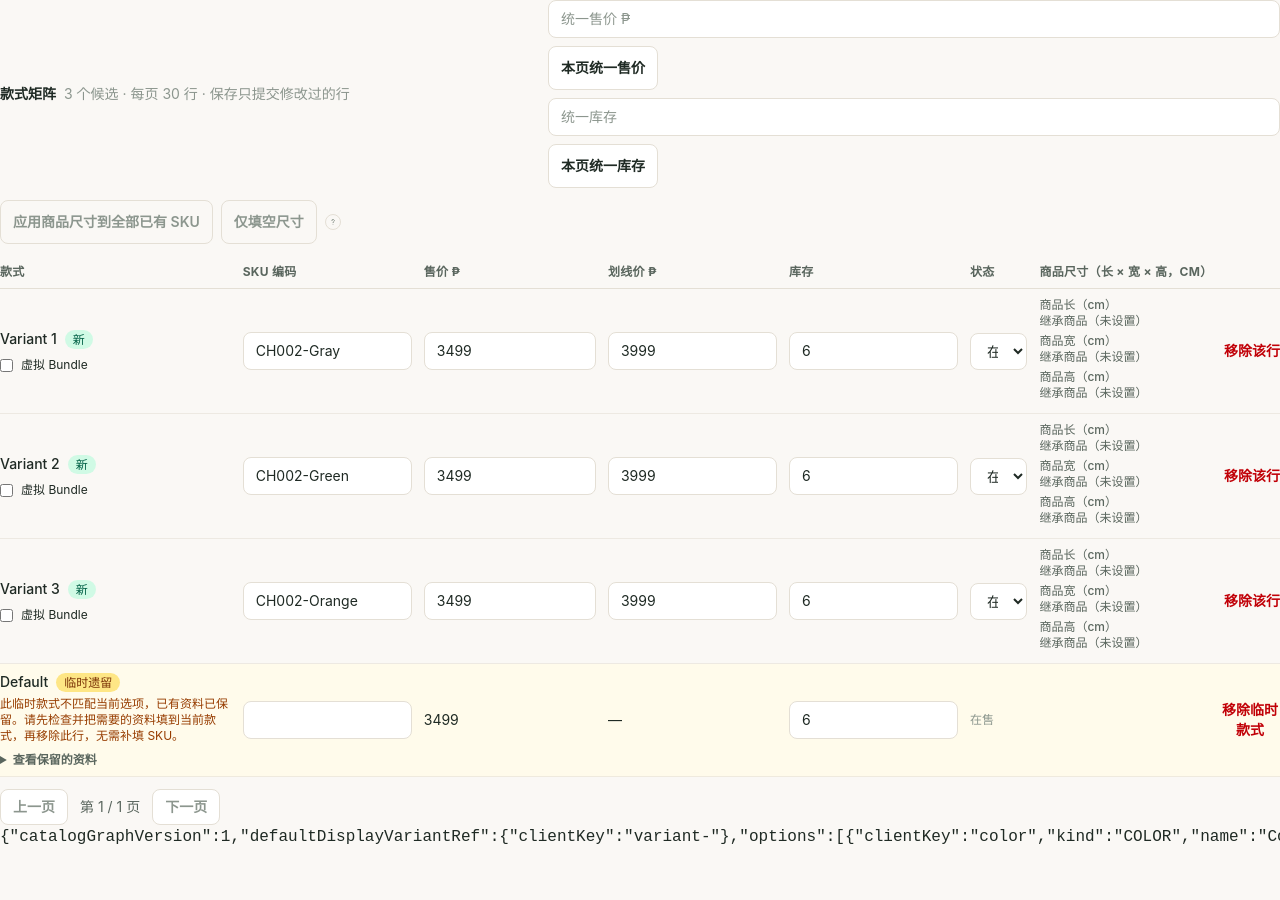
Test: VariantMatrix › keeps every draft field when removal is cancelled
Click the button with aria-label "移除临时款式 Default": click(1250, 720) [1220,700,1279,740]
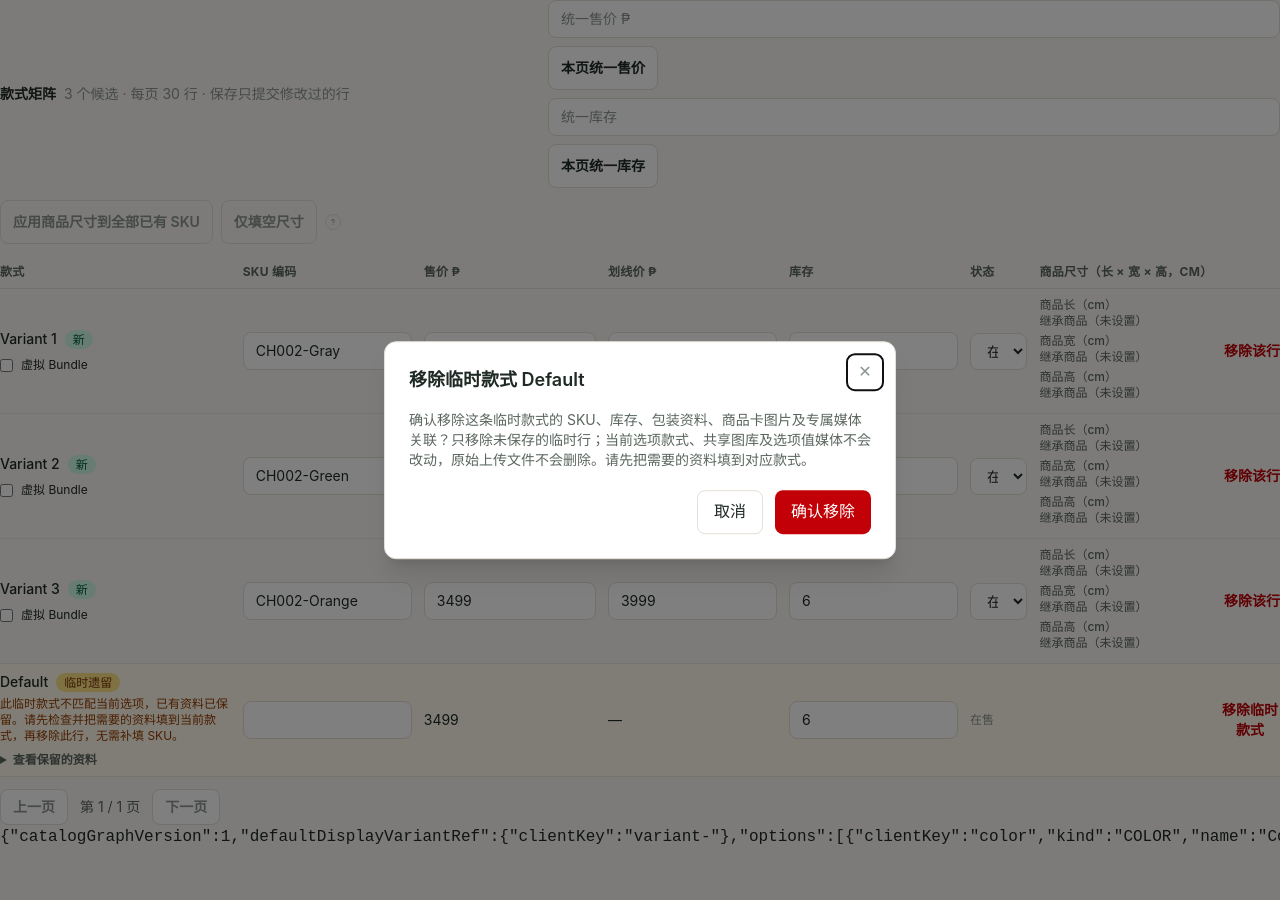
Expected: the dialog "移除临时款式 Default" shows "专属媒体关联", [409,411,871,468]
Click the button "取消": click(730, 512) [697,490,763,534]
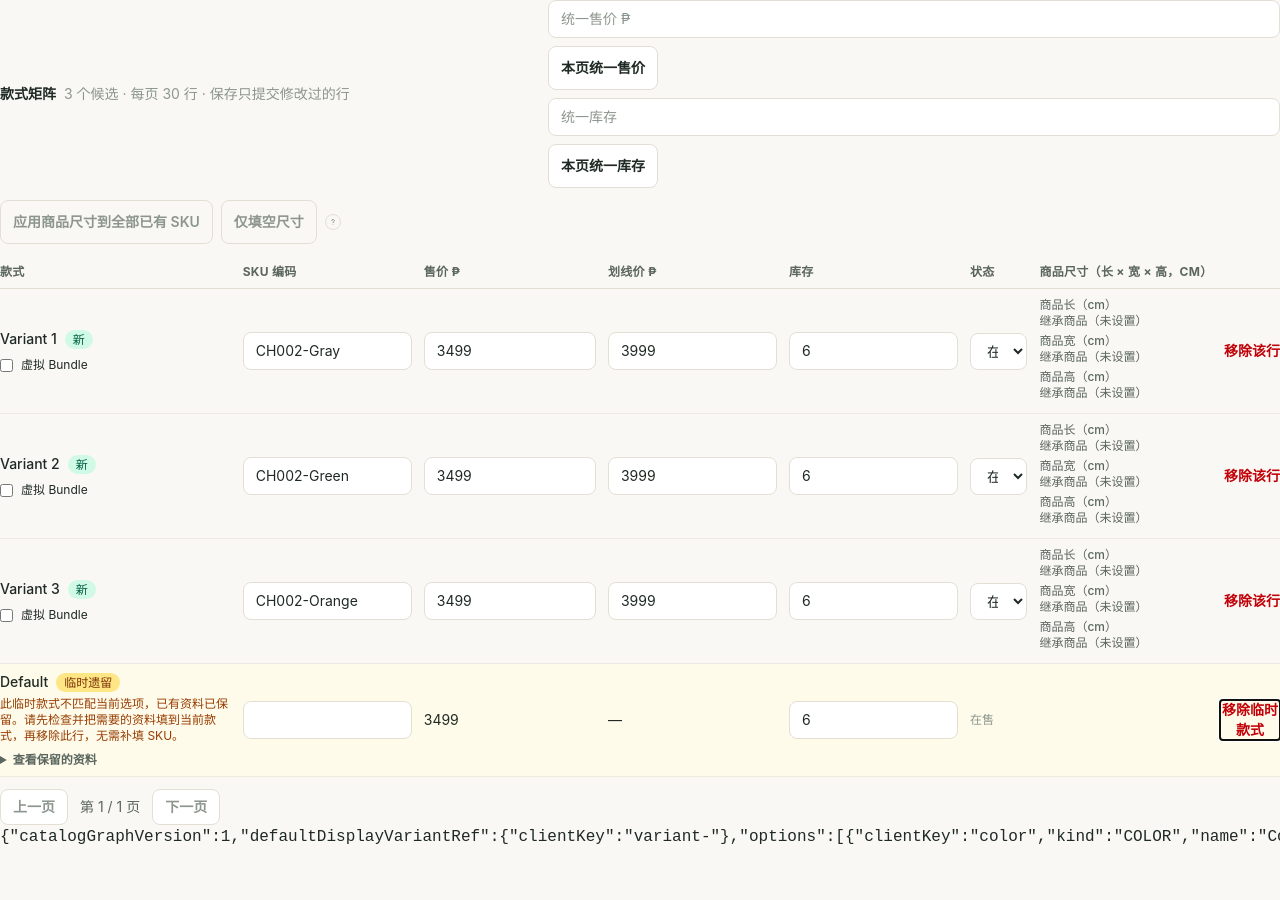
Expected: the dialog is gone
